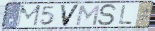5: (38, 6, 57, 27)
L: (117, 5, 134, 26)
M: (15, 4, 42, 28), (75, 4, 102, 27)
S: (97, 3, 119, 27)
V: (59, 4, 81, 28)
